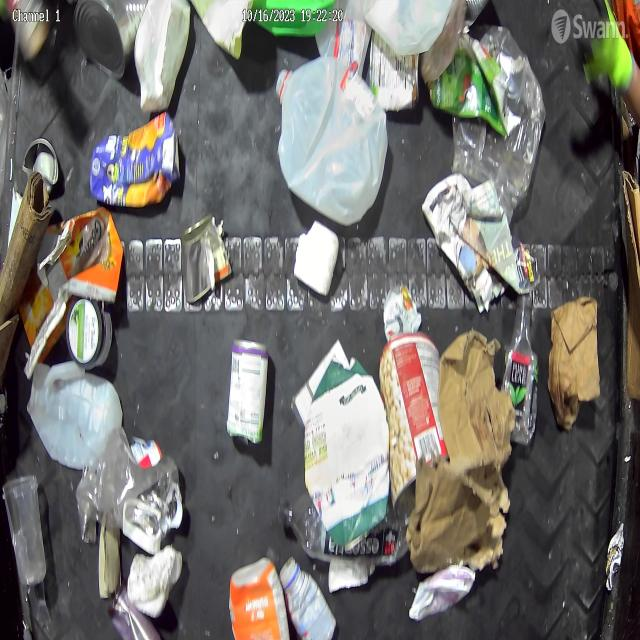can: (72, 0, 146, 80), (226, 336, 270, 445), (368, 25, 421, 115), (180, 214, 232, 305), (21, 136, 60, 195)
milk_jug: (275, 55, 390, 228), (26, 358, 124, 474)
non_white_jug: (89, 110, 181, 208)
plastic_bottle: (279, 491, 416, 568), (502, 291, 540, 448)
